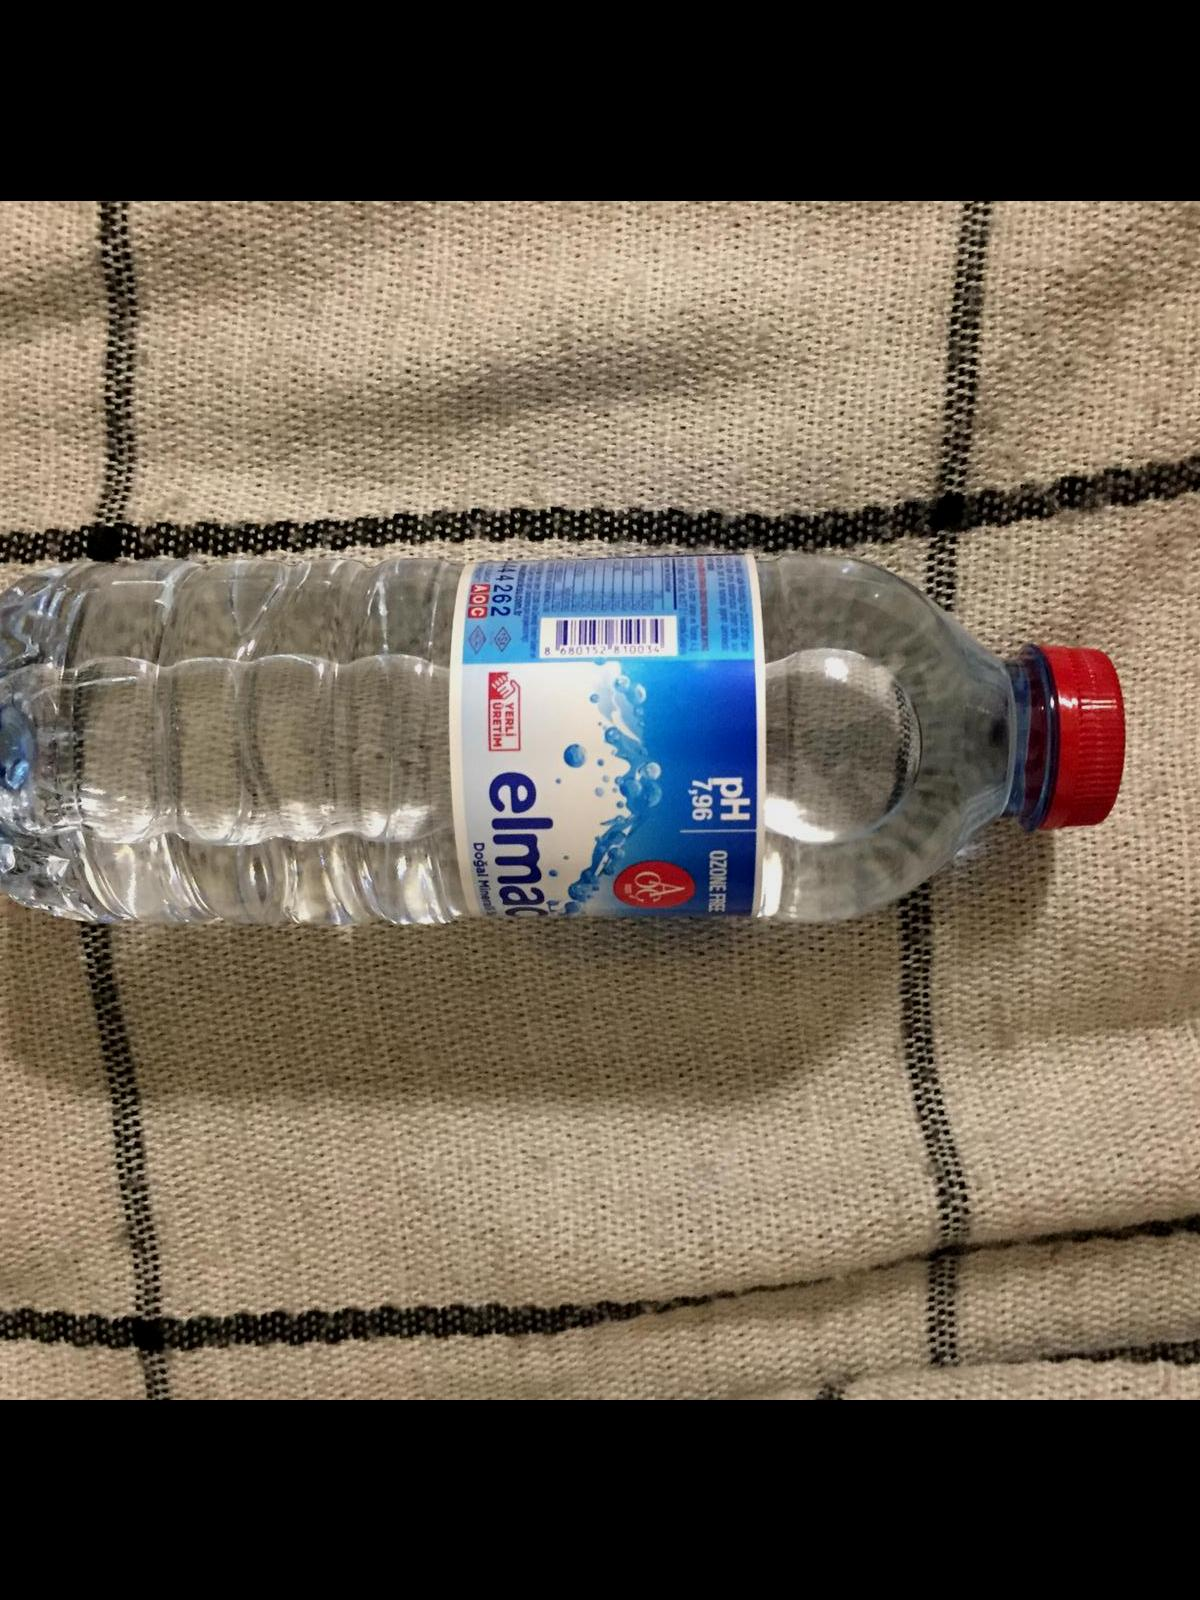bottle: (0, 553, 1129, 922)
